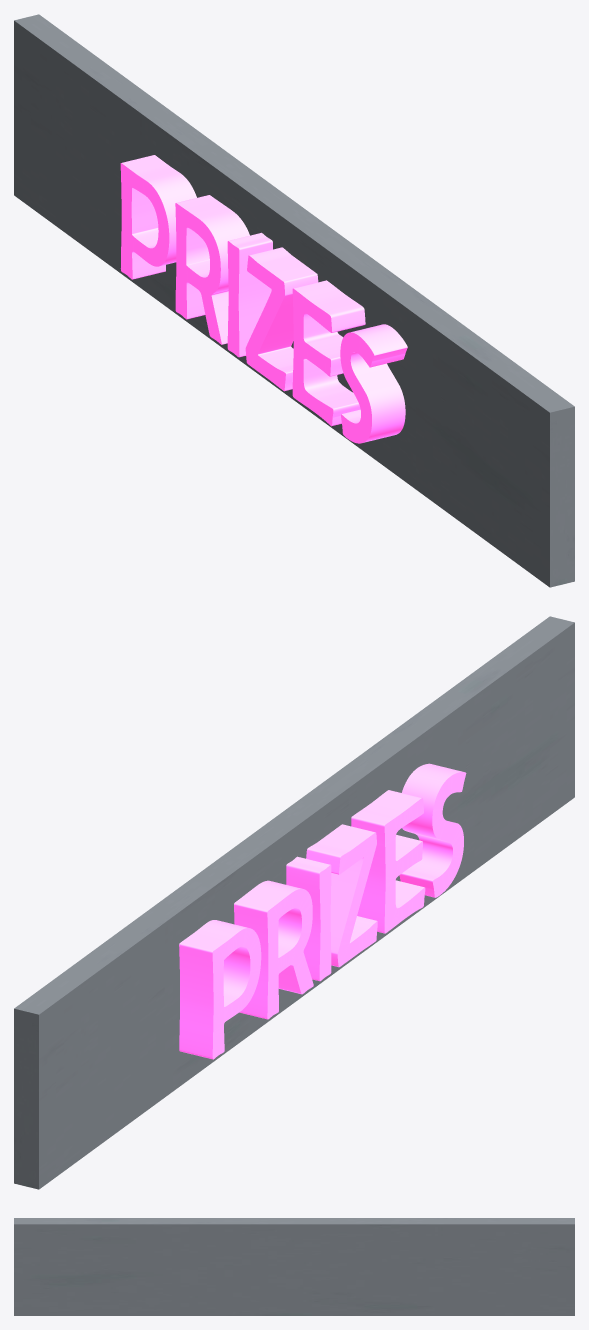
The model's file is Prizes_Sign.glb.
3 views of the same model, one above another, from view 1: azimuth 30°, elevation 25°; view 2: azimuth 150°, elevation 25°; view 3: azimuth 270°, elevation 25° (orthographic). The views are drawn at different scales.
Parts seen in each view (by area): view 1: Prizes Sign.002; view 2: Prizes Sign.002; view 3: Prizes Sign.002.
Boxes of the visible parts, x1,y1,x2,y2 form: Prizes Sign.002: [14, 14, 574, 587]; Prizes Sign.002: [14, 616, 574, 1189]; Prizes Sign.002: [14, 1218, 574, 1315].
Size of the model in its own units: 0.35 by 1 by 5.55.
Materials: 2 (1 with a texture image).
